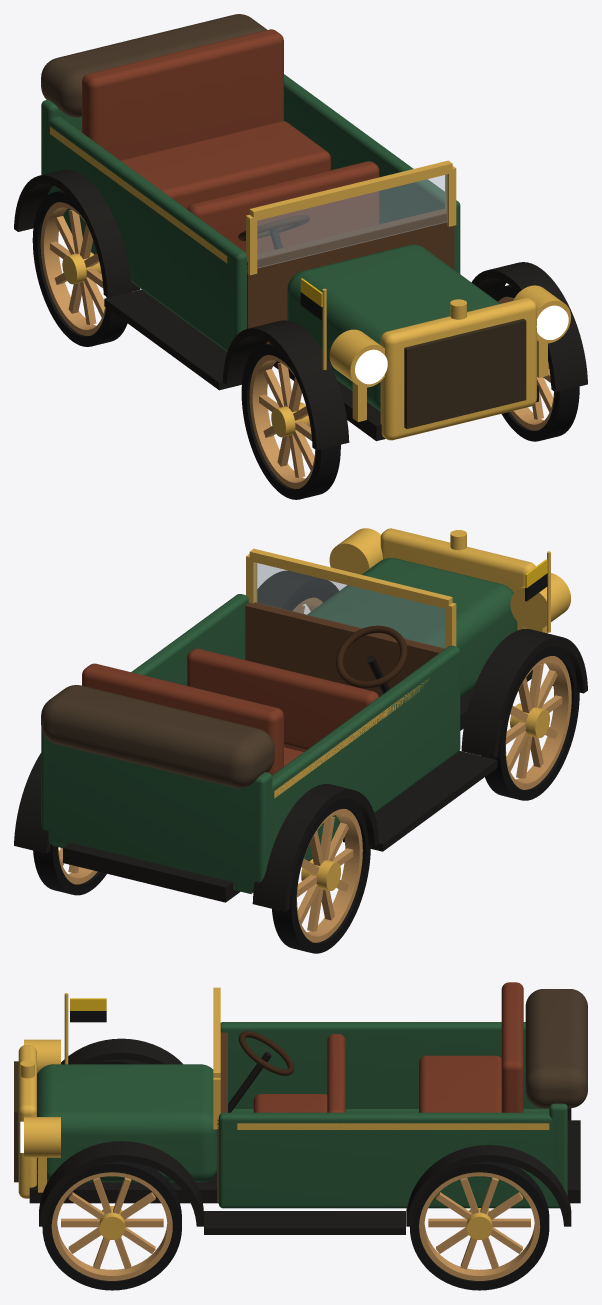
File: tourer.glb
The picture shows the model from 3 angles, top to bottom: view 1: azimuth 30°, elevation 25°; view 2: azimuth 150°, elevation 25°; view 3: azimuth 270°, elevation 25°; orthographic projection. The views are drawn at different scales.
Visible parts, largest first — view 1: RearBack, Side_L, Hood, Grille, RearSeat, Screen_noink, Dash, FrontBack, Side_R, Radiator, Wing_LF, FoldedTop (+22 smaller); view 2: RearWall, Side_L, FoldedTop, Hood, Dash, FrontBack, Screen_noink, Wing_LF, RearBack, Wing_LR, Board_L, Side_R (+16 smaller); view 3: Side_R, Side_L, Hood, FoldedTop, Board_R, RearSeat, Wing_RF, Tyre_FR, Tyre_RR, Wing_RR, Chassis, RearBack (+20 smaller).
Boxes of the visible parts, x1,y1,x2,y2 form: RearBack: [82, 29, 283, 160]; Side_L: [47, 116, 246, 351]; Hood: [287, 244, 500, 411]; Grille: [404, 318, 526, 428]; RearSeat: [120, 121, 330, 209]; Screen_noink: [257, 174, 447, 268]; Dash: [247, 209, 454, 344]; FrontBack: [187, 161, 379, 253]; Side_R: [284, 74, 460, 273]; Radiator: [380, 298, 536, 440]; Wing_LF: [223, 320, 349, 450]; FoldedTop: [41, 14, 266, 117]; RearWall: [41, 728, 272, 892]; Side_L: [255, 645, 460, 881]; FoldedTop: [41, 685, 274, 788]; Hood: [307, 558, 517, 697]; Dash: [245, 602, 444, 696]; FrontBack: [187, 648, 378, 750]; Screen_noink: [254, 562, 444, 648]; Wing_LF: [461, 629, 587, 758]; RearBack: [82, 663, 283, 775]; Wing_LR: [252, 784, 378, 911]; Board_L: [343, 751, 497, 851]; Side_R: [42, 594, 248, 826]; Side_R: [218, 1112, 567, 1208]; Side_L: [220, 1022, 549, 1108]; Hood: [37, 1064, 216, 1182]; FoldedTop: [525, 989, 587, 1108]; Board_R: [204, 1211, 405, 1234]; RearSeat: [419, 1055, 501, 1112]; Wing_RF: [39, 1141, 203, 1226]; Tyre_FR: [42, 1161, 181, 1290]; Tyre_RR: [410, 1161, 549, 1290]; Wing_RR: [406, 1145, 571, 1226]; Chassis: [29, 1120, 580, 1203]; RearBack: [501, 982, 523, 1112].
Bounding box in the file's own units: 1.54 × 1.28 × 3.13.
